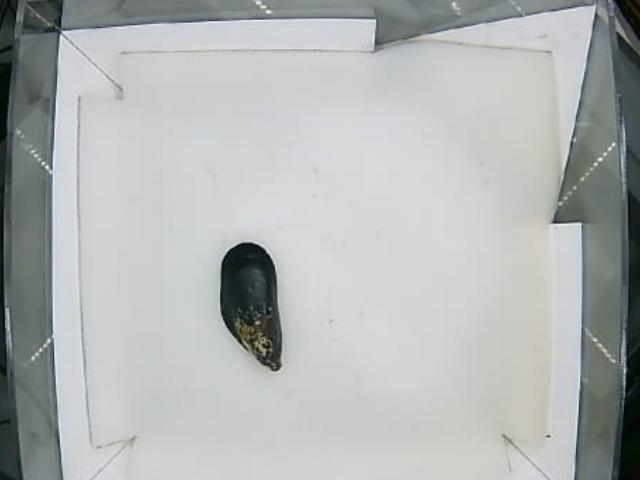Shell: (219, 242, 289, 371)
